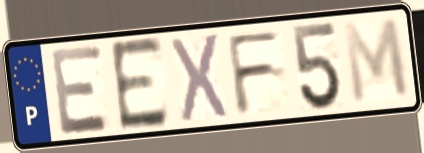5: (289, 19, 344, 113)
E: (107, 34, 171, 135), (48, 42, 113, 138)
F: (223, 27, 285, 119)
M: (340, 15, 413, 108)
X: (168, 30, 230, 125)
